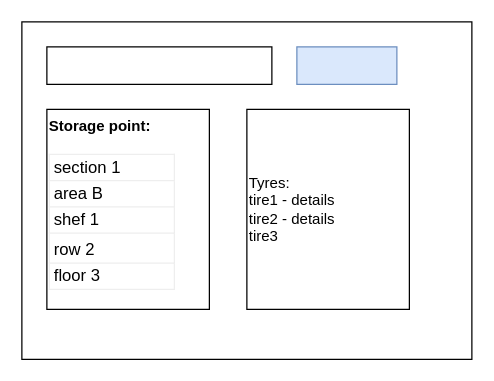
The diagram is 494 pixels wide and 381 high, and some of its shapes have lost their labels. The shapes that lost their labels are listed below. From the top down, each one's centre as x and y in pixels, then its label:
At [159,65]: "license plate search".
At [346,65]: "SEARCH".
